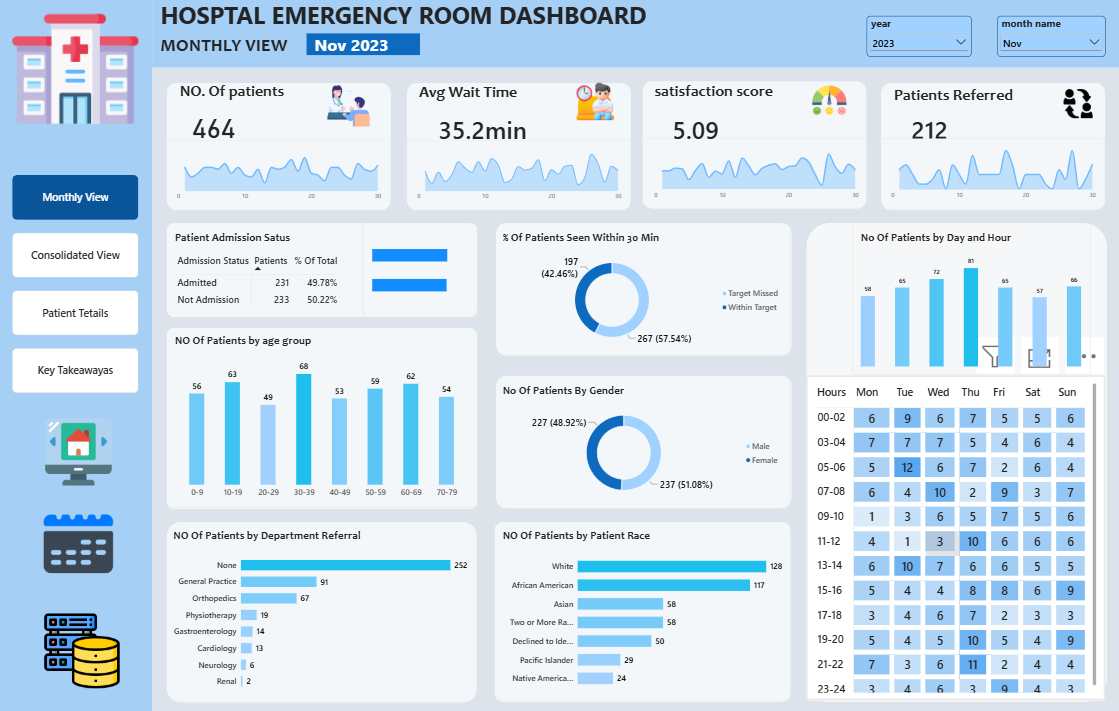

What the dashboard file says about the page in this screenshot:
{"tool":"powerbi","page":{"name":"Monthly View","canvas":[2280,1450],"ordinal":0},"visuals":[{"type":"shape","box":[0,0,309.5,1450],"z":0},{"type":"shape","box":[308.9,0,1990.7,139.7],"z":1000},{"type":"textbox","box":[309.5,140.5,364.4,28.5],"z":2000},{"type":"textbox","box":[324.9,0,1220.5,87.8],"z":3000},{"type":"shape","box":[338.3,171.5,455,259],"z":4000},{"type":"textbox","box":[324.9,72.4,349,68],"z":5000},{"type":"cardVisual","fields":{"Data":["Hospital ER_Data.NO Of Patients"]},"box":[375.1,223.1,179,80.9],"z":6000},{"type":"slicer","fields":{"Values":["Data Table.year"]},"box":[1756.5,35.4,212.9,83.4],"z":7000},{"type":"slicer","fields":{"Values":["Data Table.month name"]},"box":[2021.7,35.4,219.5,83.4],"z":8000},{"type":"textbox","box":[351.2,169,307.3,54.9],"z":9000},{"type":"areaChart","fields":{"Category":["Data Table.Date.Variation.Date Hierarchy.Day"],"Y":["Hospital ER_Data.NO Of Patients"]},"box":[336,285.9,458.5,144.6],"z":10000},{"type":"cardVisual","fields":{"Data":["Min(Data Table.Month & year)"]},"box":[623.4,72.4,230.5,43.9],"z":11000},{"type":"shape","box":[1304.8,168.2,455,259],"z":12000},{"type":"shape","box":[1788.1,170.6,455,259],"z":13000},{"type":"shape","box":[826.2,171.6,455,259],"z":14000},{"type":"cardVisual","fields":{"Data":["Hospital ER_Data.Avg Wait Time"]},"box":[872.8,223.1,220.6,83.4],"z":15000},{"type":"areaChart","fields":{"Category":["Data Table.Date.Variation.Date Hierarchy.Day"],"Y":["Avg(Hospital ER_Data.Patient Waittime)"]},"box":[823.7,286.8,458.5,144.6],"z":16000},{"type":"textbox","box":[823.7,171.6,250.1,51.5],"z":17000},{"type":"areaChart","fields":{"Category":["Data Table.Date.Variation.Date Hierarchy.Day"],"Y":["Hospital ER_Data.satisfaction"]},"box":[1301.8,284.4,458.5,144.6],"z":18000},{"type":"cardVisual","fields":{"Data":["Hospital ER_Data.satisfaction"]},"box":[1348.4,223.1,220.6,83.4],"z":19000},{"type":"textbox","box":[1304.3,169.2,450,53.9],"z":20000},{"type":"textbox","box":[1787.2,171.6,456,51.5],"z":21000},{"type":"cardVisual","fields":{"Data":["Hospital ER_Data.NO Of Patient Referred"]},"box":[1831.4,223.1,220.6,83.4],"z":22000},{"type":"shape","box":[338.9,453.9,630.7,191.6],"z":23000},{"type":"areaChart","fields":{"Category":["Data Table.Date.Variation.Date Hierarchy.Day"],"Y":["Hospital ER_Data.NO Of Patient Referred"]},"box":[1784.8,284.4,458.5,144.6],"z":24000},{"type":"barChart","fields":{"Category":["Hospital ER_Data.Admission Status"],"Y":["Hospital ER_Data.NO Of Patients"]},"box":[739.7,453.9,229.9,191.6],"z":25000},{"type":"shape","box":[338.3,666.8,630,368],"z":26000},{"type":"clusteredColumnChart","title":"NO Of Patients by age group","fields":{"Y":["Hospital ER_Data.NO Of Patients"],"Category":["Hospital ER_Data.Age Group"]},"box":[338.9,666.1,630.7,368.4],"z":27000},{"type":"shape","box":[338.9,1061,630,367],"z":28000},{"type":"clusteredBarChart","fields":{"Category":["Hospital ER_Data.Department Referral"],"Y":["Hospital ER_Data.NO Of Patients"]},"box":[336,1058,630.7,368.4],"z":29000},{"type":"pivotTable","title":"Patient Admission Satus","fields":{"Rows":["Hospital ER_Data.Admission Status"],"Values":["Hospital ER_Data.NO Of Patients1","Hospital ER_Data.NO Of Patients"]},"box":[338.9,453.9,397.9,191.6],"z":30000},{"type":"shape","box":[1005,453.9,600,270],"z":31000},{"type":"donutChart","title":"% Of Patients  Seen Within 30 Min","fields":{"Category":["Hospital ER_Data.Waittime Status"],"Y":["Hospital ER_Data.NO Of Patients"]},"box":[1002,453.9,601.2,271.1],"z":32000},{"type":"shape","box":[1005,763.3,600,270],"z":33000},{"type":"donutChart","title":"No Of Patients By Gender","fields":{"Y":["Hospital ER_Data.NO Of Patients"],"Category":["Hospital ER_Data.Patient Gender"]},"box":[1002,763.3,600,271.2],"z":34000},{"type":"shape","box":[1004.5,1060.6,601.5,365.2],"z":35000},{"type":"clusteredBarChart","fields":{"Y":["Hospital ER_Data.NO Of Patients"],"Category":["Hospital ER_Data.Patient Race"]},"box":[1002,1058,601.2,365.4],"z":36000},{"type":"shape","box":[1635.7,453.9,610.1,972.6],"z":37000},{"type":"pivotTable","fields":{"Rows":["Hospital ER_Data.Waittime Interval"],"Columns":["Data Table.Day Name"],"Values":["Hospital ER_Data.NO Of Patients"]},"box":[1636,764,606,660],"z":38000},{"type":"columnChart","title":"No Of Patients by Day and Hour","fields":{"Category":["Data Table.Day Name"],"Y":["Hospital ER_Data.NO Of Patients"]},"box":[1730,453.9,483.3,309.5],"z":39000},{"type":"image","box":[622.7,171.2,169.7,93.9],"z":40000},{"type":"image","box":[1139.4,169.7,137.9,75.8],"z":41000},{"type":"image","box":[1636.4,169.7,93.9,71.2],"z":42000},{"type":"image","box":[2130.8,182.7,109,58.9],"z":43000},{"type":"image","box":[26.5,0,256.4,285.9],"z":44000},{"type":"pageNavigator","box":[26.5,356.6,256.4,442.1],"z":45000},{"type":"image","box":[8.8,851.7,300.6,135.6],"z":46000},{"type":"image","box":[8.8,1034.5,300.6,141.5],"z":47000},{"type":"image","box":[26.5,1240.8,282.9,162.1],"z":48000}]}

Visuals, with their boxes in screenshot pixels (x1, y1, x2, y2), scaled from the page's 2280x1450 canvas onto the 1119x711 screenshot:
shape: x1=0 y1=0 x2=152 y2=710
shape: x1=152 y1=0 x2=1118 y2=69
textbox: x1=152 y1=69 x2=331 y2=83
textbox: x1=159 y1=0 x2=758 y2=43
shape: x1=166 y1=84 x2=389 y2=211
textbox: x1=159 y1=36 x2=331 y2=69
cardVisual - Hospital ER_Data.NO Of Patients: x1=184 y1=109 x2=272 y2=149
slicer - Data Table.year: x1=862 y1=17 x2=967 y2=58
slicer - Data Table.month name: x1=992 y1=17 x2=1100 y2=58
textbox: x1=172 y1=83 x2=323 y2=110
areaChart - Data Table.Date.Variation.Date Hierarchy.Day x Hospital ER_Data.NO Of Patients: x1=165 y1=140 x2=390 y2=211
cardVisual - Min(Data Table.Month & year): x1=306 y1=36 x2=419 y2=57
shape: x1=640 y1=82 x2=864 y2=209
shape: x1=878 y1=84 x2=1101 y2=211
shape: x1=405 y1=84 x2=629 y2=211
cardVisual - Hospital ER_Data.Avg Wait Time: x1=428 y1=109 x2=537 y2=150
areaChart - Data Table.Date.Variation.Date Hierarchy.Day x Avg(Hospital ER_Data.Patient Waittime): x1=404 y1=141 x2=629 y2=212
textbox: x1=404 y1=84 x2=527 y2=109
areaChart - Data Table.Date.Variation.Date Hierarchy.Day x Hospital ER_Data.satisfaction: x1=639 y1=139 x2=864 y2=210
cardVisual - Hospital ER_Data.satisfaction: x1=662 y1=109 x2=770 y2=150
textbox: x1=640 y1=83 x2=861 y2=109
textbox: x1=877 y1=84 x2=1101 y2=109
cardVisual - Hospital ER_Data.NO Of Patient Referred: x1=899 y1=109 x2=1007 y2=150
shape: x1=166 y1=223 x2=476 y2=317
areaChart - Data Table.Date.Variation.Date Hierarchy.Day x Hospital ER_Data.NO Of Patient Referred: x1=876 y1=139 x2=1101 y2=210
barChart - Hospital ER_Data.Admission Status x Hospital ER_Data.NO Of Patients: x1=363 y1=223 x2=476 y2=317
shape: x1=166 y1=327 x2=475 y2=507
"NO Of Patients by age group" clusteredColumnChart: x1=166 y1=327 x2=476 y2=507
shape: x1=166 y1=520 x2=476 y2=700
clusteredBarChart - Hospital ER_Data.Department Referral x Hospital ER_Data.NO Of Patients: x1=165 y1=519 x2=474 y2=699
"Patient Admission Satus" pivotTable: x1=166 y1=223 x2=362 y2=317
shape: x1=493 y1=223 x2=788 y2=355
"% Of Patients  Seen Within 30 Min" donutChart: x1=492 y1=223 x2=787 y2=356
shape: x1=493 y1=374 x2=788 y2=507
"No Of Patients By Gender" donutChart: x1=492 y1=374 x2=786 y2=507
shape: x1=493 y1=520 x2=788 y2=699
clusteredBarChart - Hospital ER_Data.NO Of Patients x Hospital ER_Data.Patient Race: x1=492 y1=519 x2=787 y2=698
shape: x1=803 y1=223 x2=1102 y2=699
pivotTable - Hospital ER_Data.Waittime Interval x Data Table.Day Name: x1=803 y1=375 x2=1100 y2=698
"No Of Patients by Day and Hour" columnChart: x1=849 y1=223 x2=1086 y2=374
image: x1=306 y1=84 x2=389 y2=130
image: x1=559 y1=83 x2=627 y2=120
image: x1=803 y1=83 x2=849 y2=118
image: x1=1046 y1=90 x2=1099 y2=118
image: x1=13 y1=0 x2=139 y2=140
pageNavigator: x1=13 y1=175 x2=139 y2=392
image: x1=4 y1=418 x2=152 y2=484
image: x1=4 y1=507 x2=152 y2=577
image: x1=13 y1=608 x2=152 y2=688
